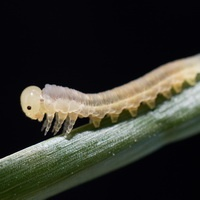insect: (20, 54, 199, 134)
